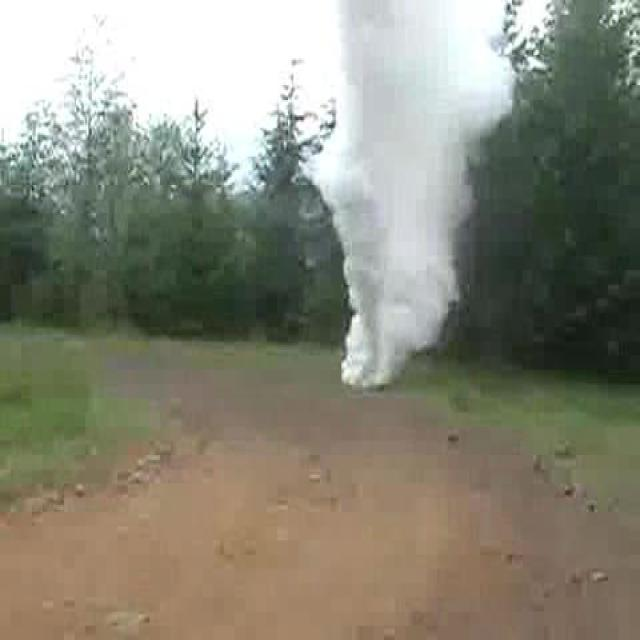Smoke: (334, 2, 469, 380)
